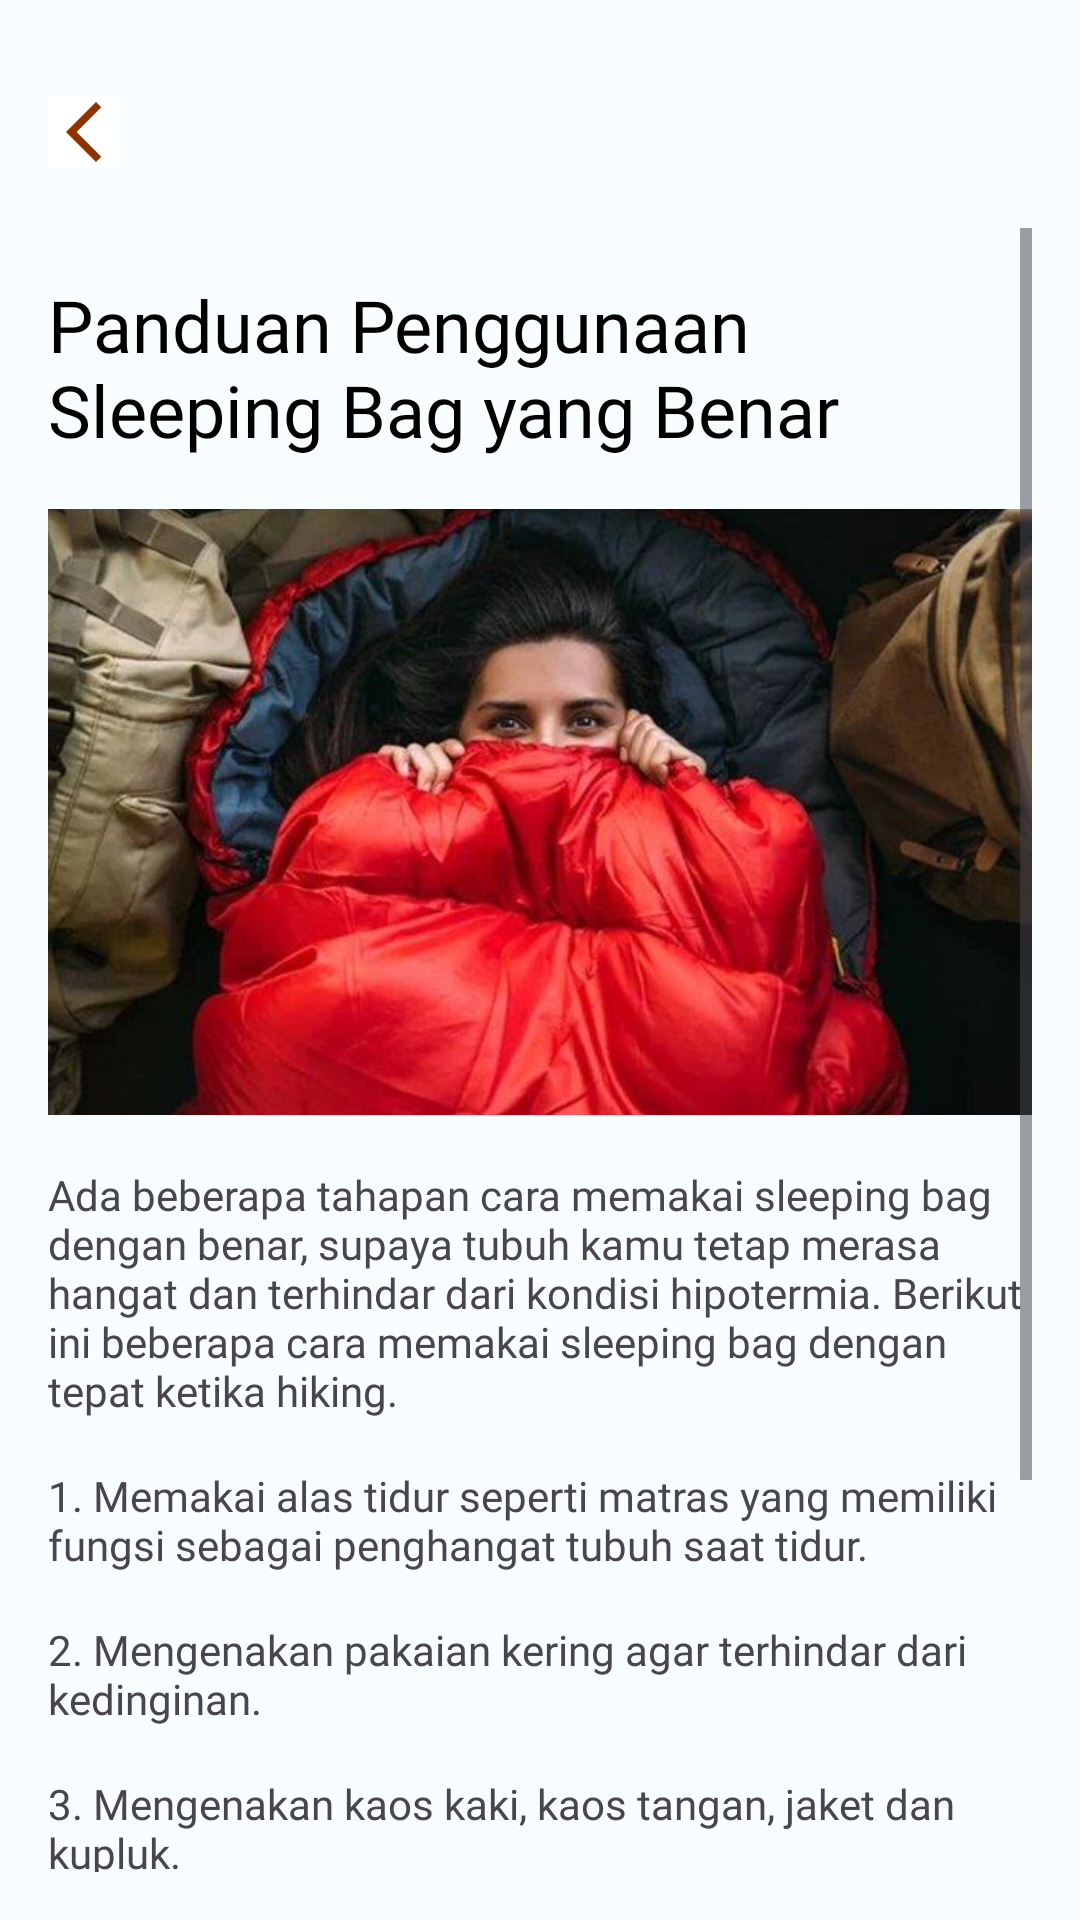

Icon bounding boxes for this 1080px x 1920px phone screenshot, format [x1, y1, x2, y2]:
back: [66, 102, 101, 162]
